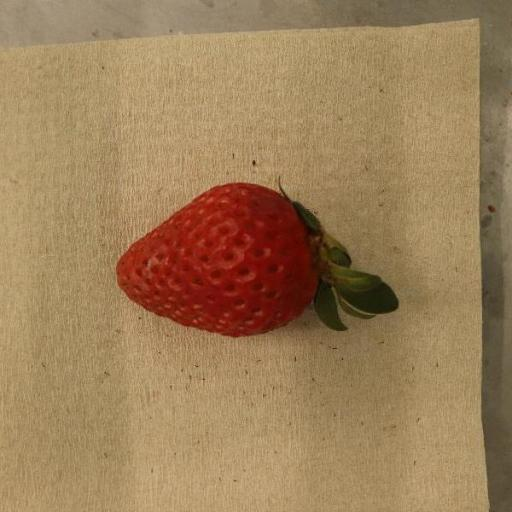Strawberry: (117, 183, 399, 338)
